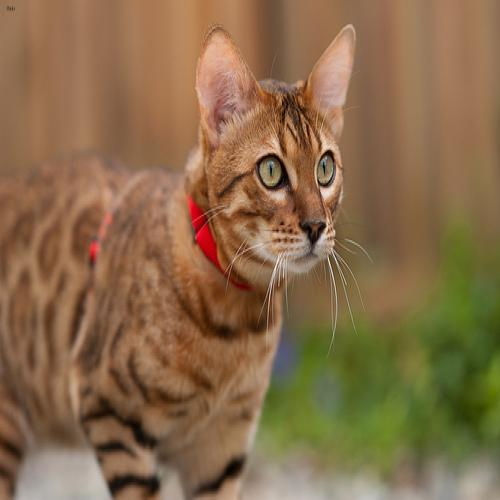bengal: (197, 19, 361, 284)
